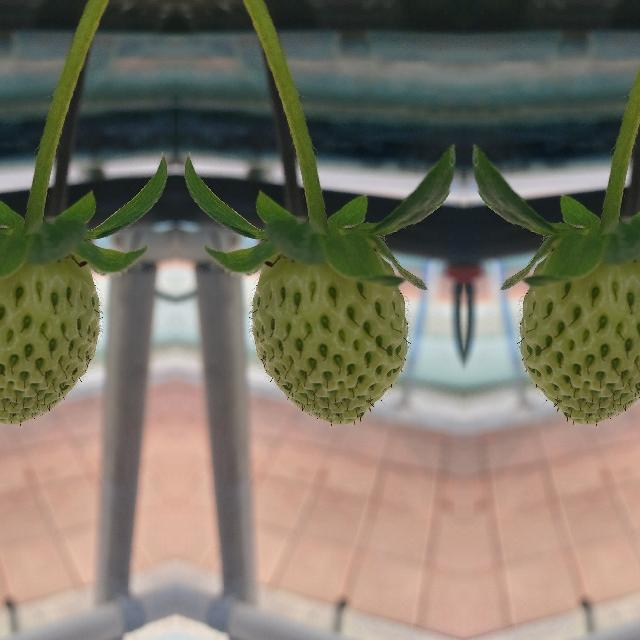Health_25: (251, 253, 407, 424), (519, 253, 640, 424), (0, 253, 99, 424)
